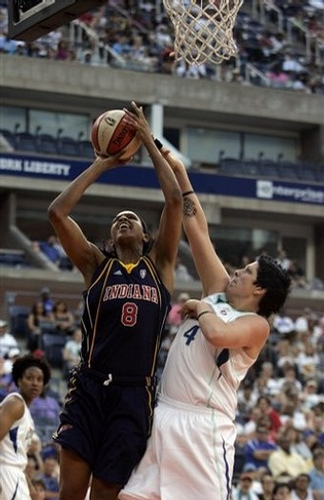basketball: (91, 110, 142, 162)
